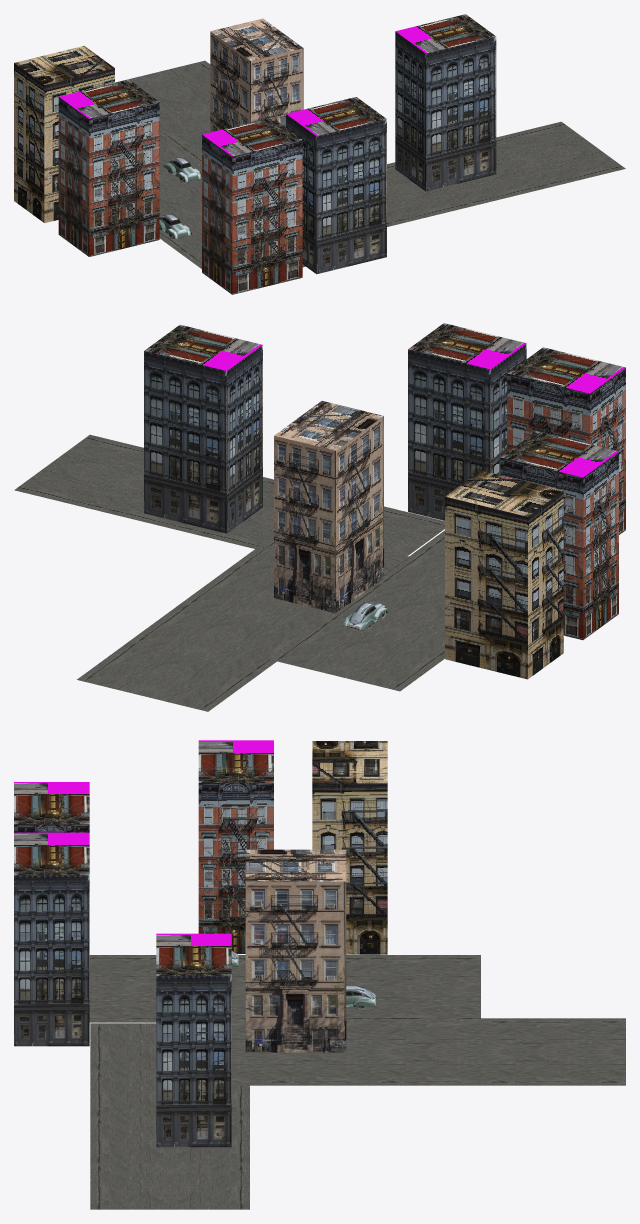
Rendered from city.lvl.glb.
The picture shows the model from 3 angles, top to bottom: view 1: azimuth 30°, elevation 25°; view 2: azimuth 150°, elevation 25°; view 3: azimuth 270°, elevation 25°; orthographic projection. The views are drawn at different scales.
Visible parts, largest first — view 1: building2.005, building2.003, building2.002, building2.001, Road2, building2.004, building1, Road.001, Road, Car, Car.001; view 2: building2.005, building2.004, building1, Road.001, building2.001, Road, building2.003, Road2, building2.002, Car; view 3: Road.001, building1, Road2, building2.001, building2.005, Road, building2.004, building2.003, building2.002.
Part boxes in pixels (x1,y1,x2,y2): building2.005: (395, 14, 496, 191); building2.003: (58, 79, 159, 256); building2.002: (202, 117, 302, 294); building2.001: (286, 97, 386, 274); Road2: (387, 121, 625, 226); building2.004: (14, 45, 114, 223); building1: (210, 18, 303, 132); Road.001: (115, 60, 210, 166); Road: (159, 129, 305, 268); Car: (163, 157, 201, 182); Car.001: (159, 214, 191, 238); building2.005: (144, 324, 262, 533); building2.004: (445, 470, 563, 679); building1: (274, 401, 383, 613); Road.001: (77, 535, 412, 711); building2.001: (408, 323, 526, 520); Road: (269, 530, 444, 691); building2.003: (500, 431, 618, 639); Road2: (14, 434, 444, 572); building2.002: (507, 347, 625, 534); Car: (343, 602, 388, 630); Road.001: (231, 1018, 625, 1085); building1: (245, 849, 346, 1052); Road2: (90, 1023, 249, 1209); building2.001: (14, 832, 89, 1046); building2.005: (156, 933, 231, 1147); Road: (89, 955, 480, 1022); building2.004: (312, 741, 387, 954); building2.003: (198, 740, 273, 953); building2.002: (14, 782, 89, 832).
Bounding box in the file's own units: 56.05 × 15 × 48.62.
2 materials, 2 textured.
